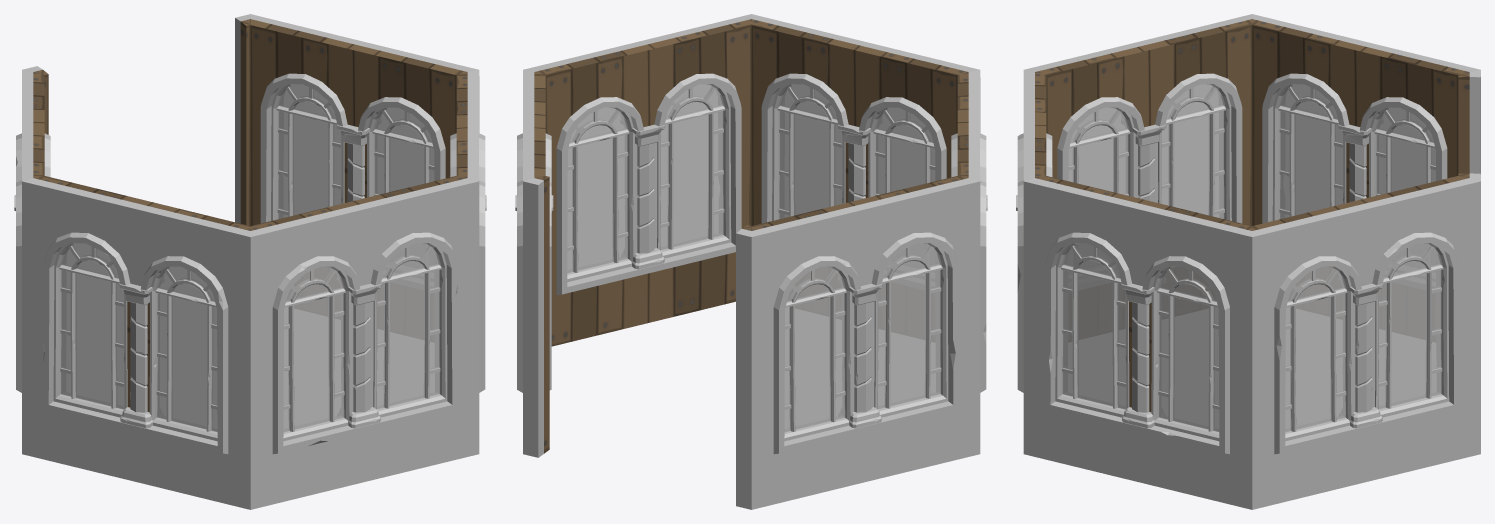
File: SM_Bld_Wall_Tower_Windows_01.fbx
3 renders of one model, left to right at view 1: azimuth 30°, elevation 25°; view 2: azimuth 150°, elevation 25°; view 3: azimuth 270°, elevation 25°, orthographic.
Visible parts, largest first — view 1: SM_Bld_Wall_Tower_Windows_01, SM_Bld_Wall_Tower_Windows_01_Glass; view 2: SM_Bld_Wall_Tower_Windows_01, SM_Bld_Wall_Tower_Windows_01_Glass; view 3: SM_Bld_Wall_Tower_Windows_01, SM_Bld_Wall_Tower_Windows_01_Glass.
Boxes of the visible parts, x1=… form: SM_Bld_Wall_Tower_Windows_01: x1=14, y1=14, x2=486, y2=509; SM_Bld_Wall_Tower_Windows_01_Glass: x1=61, y1=84, x2=439, y2=432; SM_Bld_Wall_Tower_Windows_01: x1=515, y1=14, x2=987, y2=509; SM_Bld_Wall_Tower_Windows_01_Glass: x1=567, y1=84, x2=940, y2=432; SM_Bld_Wall_Tower_Windows_01: x1=1016, y1=14, x2=1480, y2=509; SM_Bld_Wall_Tower_Windows_01_Glass: x1=1062, y1=84, x2=1441, y2=432.
Size of the model in its own units: 526 by 301 by 463.
